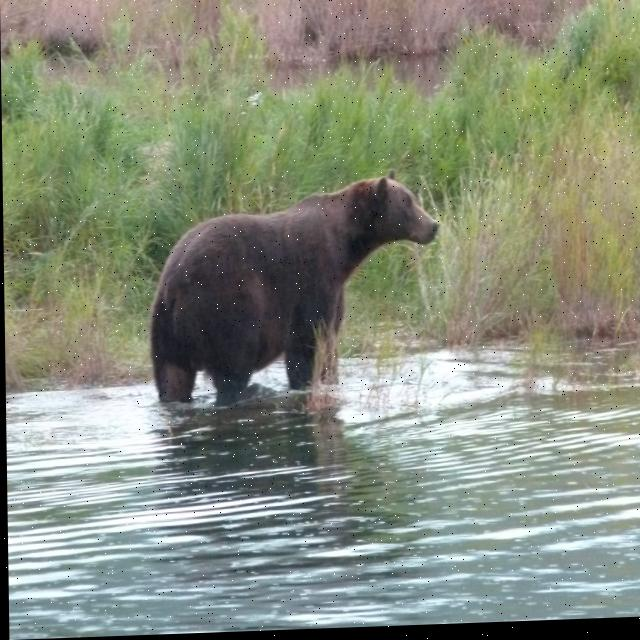bear face: (151, 171, 441, 399)
